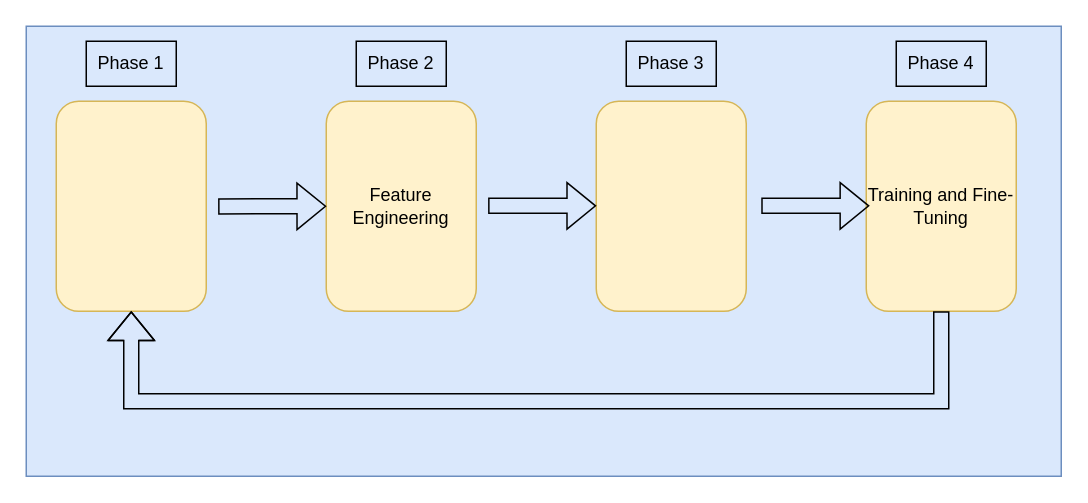
The diagram is 1088 pixels wide and 503 high, and some of its shapes have lost their labels. The shapes that lost their labels are listed below. From the top down, each one's box as (x1, y1, x2, y2) in pixels, then its label:
(55, 100, 206, 311): Data Collection and Preprocessing
(595, 100, 746, 311): Language Model Architecture
